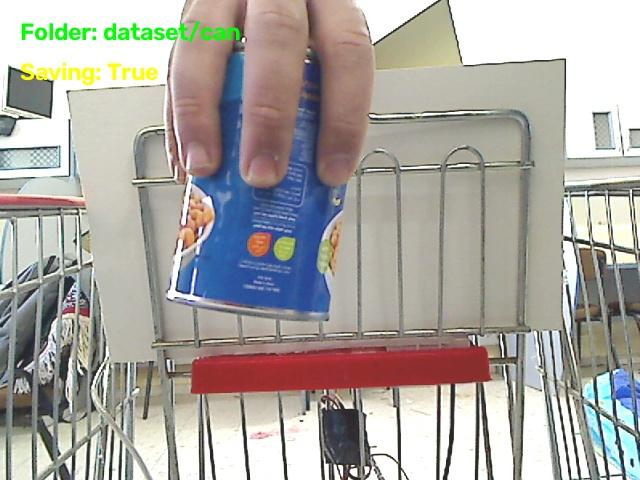can: (167, 44, 345, 320)
